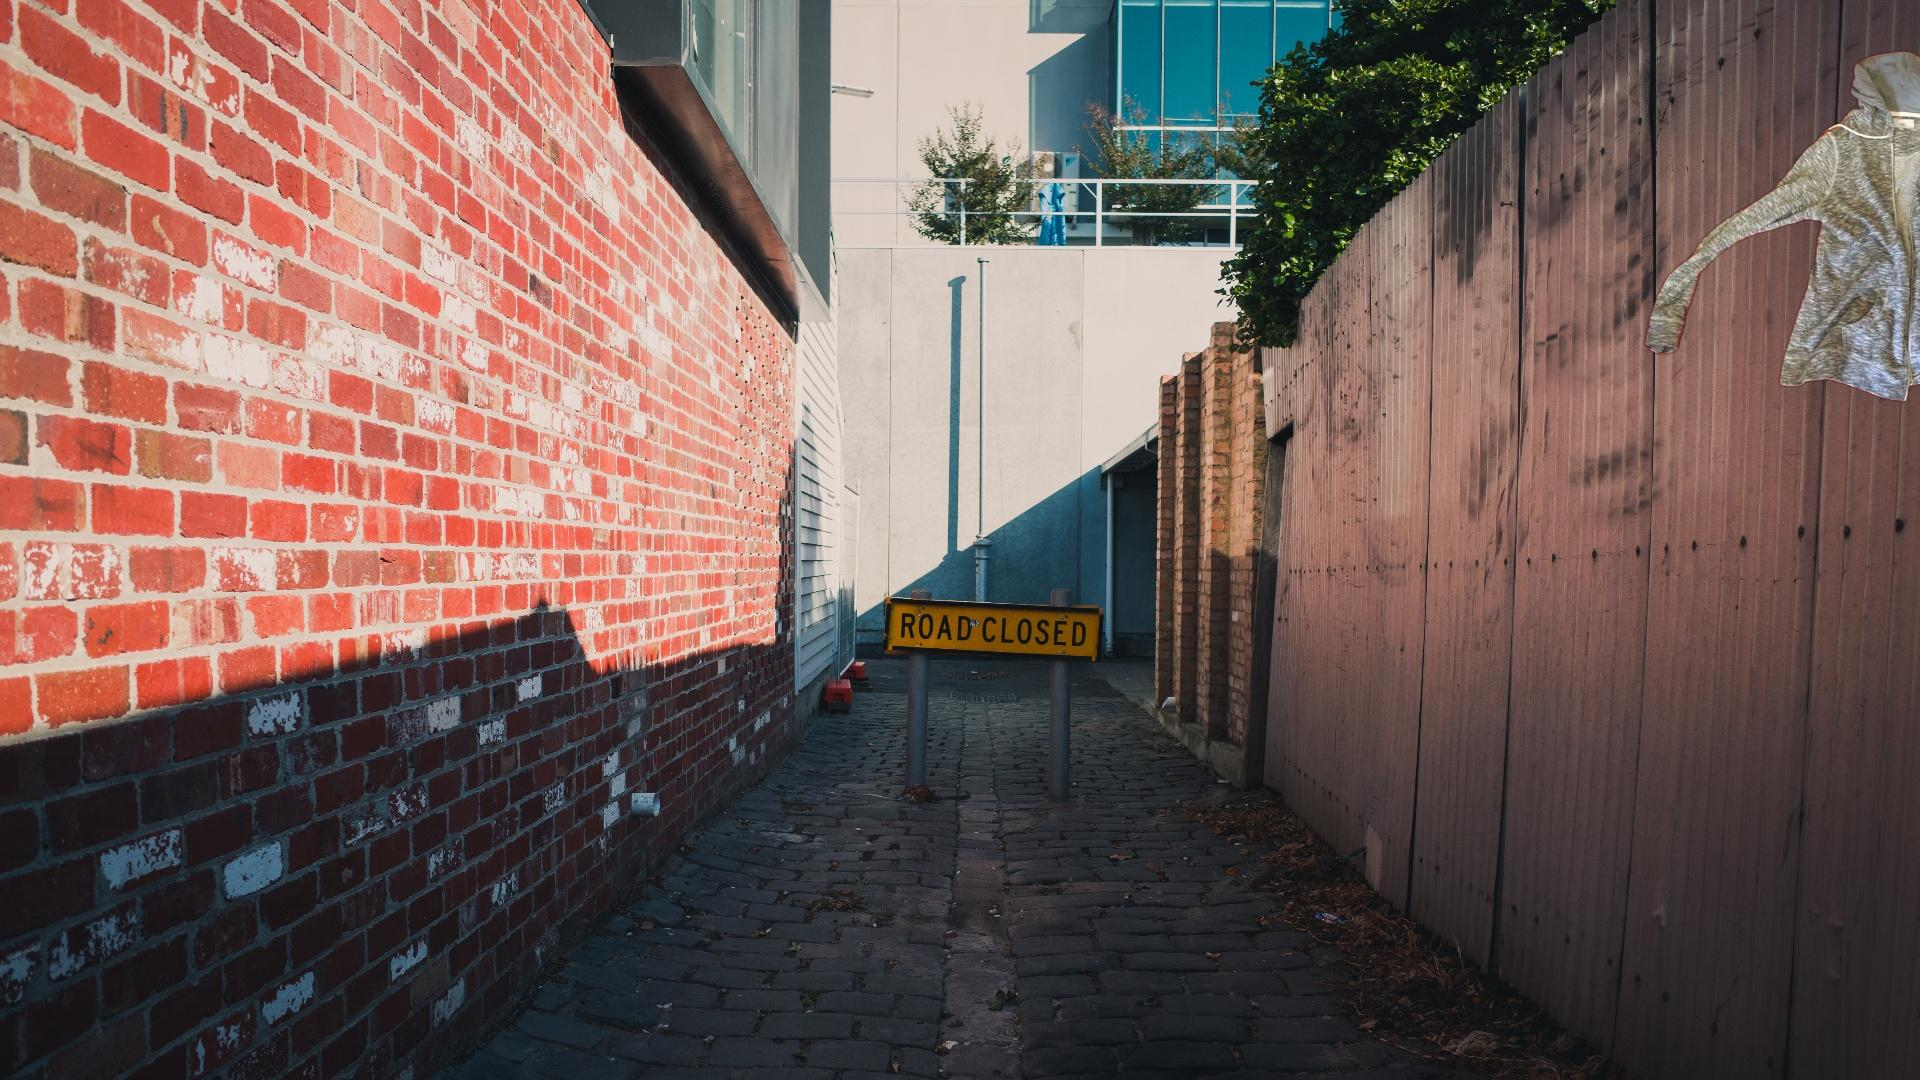clothes: (1639, 48, 1920, 428)
